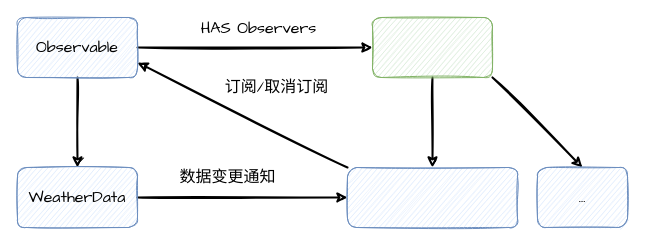
Image size: 645x245. Some labels were removed from this diagram. The shapes that lost their labels are listed below. From the top down, each one's box as (x1, y1, x2, y2) in pixels, then its label:
(372, 16, 492, 78): Observer
(346, 166, 518, 228): TemperatureLog
